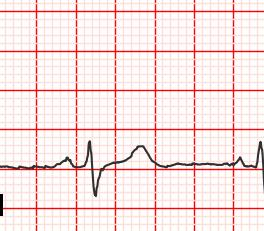LVH: (124, 140, 155, 171)
Poor R Progression: (79, 137, 100, 168)
ST Depression: (80, 161, 111, 198)
